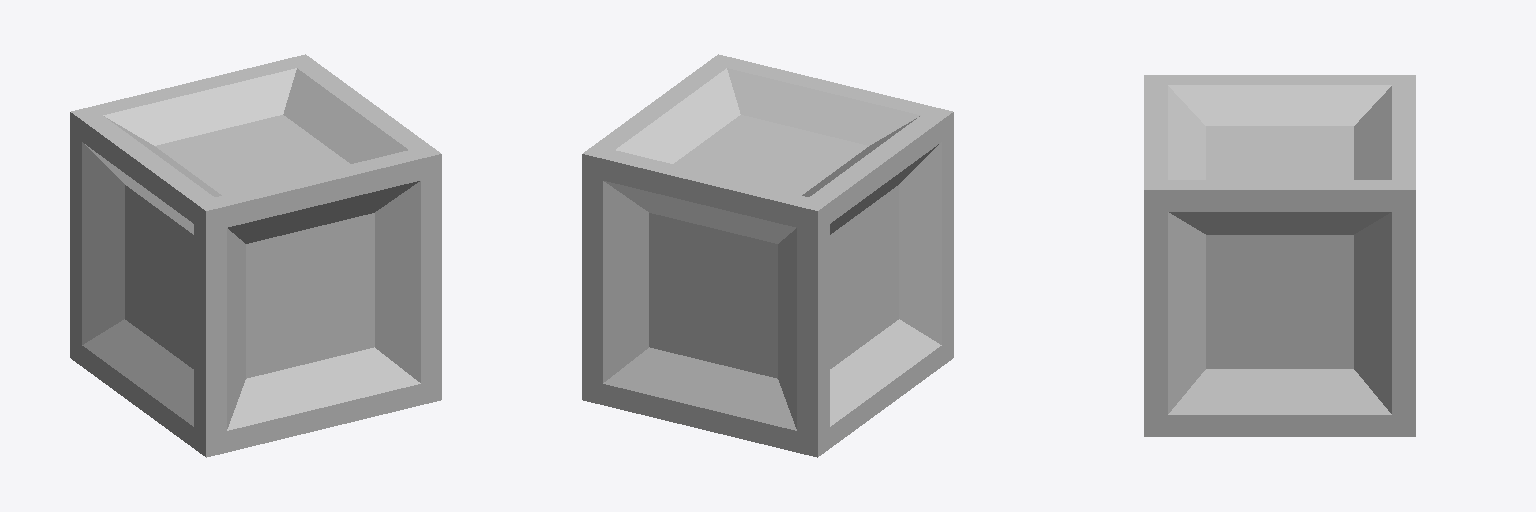
The model's file is Box Container.obj.
3 renders of one model, left to right at view 1: azimuth 30°, elevation 25°; view 2: azimuth 150°, elevation 25°; view 3: azimuth 270°, elevation 25°, orthographic.
Visible parts, largest first — view 1: Cube_Debris_Cube.008; view 2: Cube_Debris_Cube.008; view 3: Cube_Debris_Cube.008.
Part boxes in pixels (x1,y1,x2,y2): Cube_Debris_Cube.008: (70, 54, 441, 457); Cube_Debris_Cube.008: (582, 54, 953, 457); Cube_Debris_Cube.008: (1144, 75, 1415, 436).
Size of the model in its own units: 2.19 by 2.19 by 2.19.